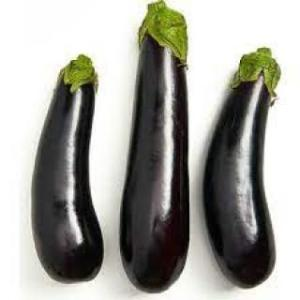eggplant: (121, 6, 194, 292), (205, 47, 282, 285), (31, 52, 103, 282)
